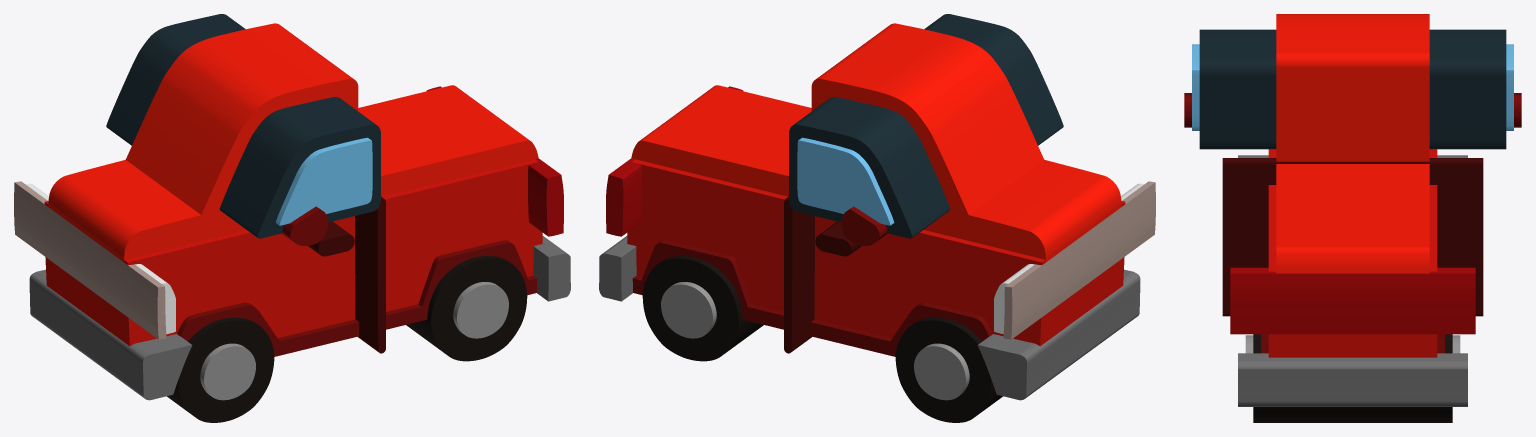
The picture shows the model from 3 angles, left to right: view 1: azimuth 30°, elevation 25°; view 2: azimuth 150°, elevation 25°; view 3: azimuth 270°, elevation 25°; orthographic projection.
Visible parts, largest first — view 1: U+1F6FB_layer00_obj00, U+1F6FB_layer01_obj00, U+1F6FB_layer10_obj00, U+1F6FB_layer09_obj00, U+1F6FB_layer05_obj01, U+1F6FB_layer03_obj01, U+1F6FB_layer02_obj00, U+1F6FB_layer03_obj00, U+1F6FB_layer11_obj00, U+1F6FB_layer07_obj00, U+1F6FB_layer04_obj00, U+1F6FB_layer04_obj01 (+5 smaller); view 2: U+1F6FB_layer00_obj00, U+1F6FB_layer01_obj00, U+1F6FB_layer10_obj00, U+1F6FB_layer09_obj00, U+1F6FB_layer05_obj01, U+1F6FB_layer03_obj01, U+1F6FB_layer02_obj00, U+1F6FB_layer03_obj00, U+1F6FB_layer11_obj00, U+1F6FB_layer07_obj00, U+1F6FB_layer04_obj00, U+1F6FB_layer04_obj01 (+5 smaller); view 3: U+1F6FB_layer00_obj00, U+1F6FB_layer10_obj00, U+1F6FB_layer06_obj00, U+1F6FB_layer07_obj00, U+1F6FB_layer05_obj00, U+1F6FB_layer01_obj00, U+1F6FB_layer03_obj01, U+1F6FB_layer11_obj00, U+1F6FB_layer12_obj00, U+1F6FB_layer04_obj01, U+1F6FB_layer02_obj00.
Part boxes in pixels (x1,y1,x2,y2): U+1F6FB_layer00_obj00: (48,23,538,261); U+1F6FB_layer01_obj00: (44,159,542,346); U+1F6FB_layer10_obj00: (106,14,380,238); U+1F6FB_layer09_obj00: (14,181,166,339); U+1F6FB_layer05_obj01: (29,269,192,400); U+1F6FB_layer03_obj01: (406,256,527,361); U+1F6FB_layer02_obj00: (177,240,537,356); U+1F6FB_layer03_obj00: (167,317,274,422); U+1F6FB_layer11_obj00: (275,137,372,225); U+1F6FB_layer07_obj00: (355,196,385,353); U+1F6FB_layer04_obj00: (200,343,255,400); U+1F6FB_layer04_obj01: (453,282,508,338); U+1F6FB_layer00_obj00: (631,23,1121,261); U+1F6FB_layer01_obj00: (627,159,1125,346); U+1F6FB_layer10_obj00: (789,14,1063,238); U+1F6FB_layer09_obj00: (1003,181,1155,339); U+1F6FB_layer05_obj01: (977,269,1140,400); U+1F6FB_layer03_obj01: (642,256,763,361); U+1F6FB_layer02_obj00: (632,240,992,356); U+1F6FB_layer03_obj00: (895,317,1002,422); U+1F6FB_layer11_obj00: (797,137,894,225); U+1F6FB_layer07_obj00: (784,196,814,353); U+1F6FB_layer04_obj00: (914,343,969,400); U+1F6FB_layer04_obj01: (661,282,716,338); U+1F6FB_layer00_obj00: (1276,14,1429,273); U+1F6FB_layer10_obj00: (1199,29,1506,149); U+1F6FB_layer06_obj00: (1230,267,1475,334); U+1F6FB_layer07_obj00: (1222,158,1483,316); U+1F6FB_layer05_obj00: (1238,353,1467,406); U+1F6FB_layer01_obj00: (1268,149,1437,357); U+1F6FB_layer03_obj01: (1253,334,1452,422); U+1F6FB_layer11_obj00: (1192,44,1513,130); U+1F6FB_layer12_obj00: (1184,93,1521,127); U+1F6FB_layer04_obj01: (1245,335,1460,353); U+1F6FB_layer02_obj00: (1261,334,1444,353).
Size of the model in its own units: 0.3271 by 0.2209 by 0.22.
